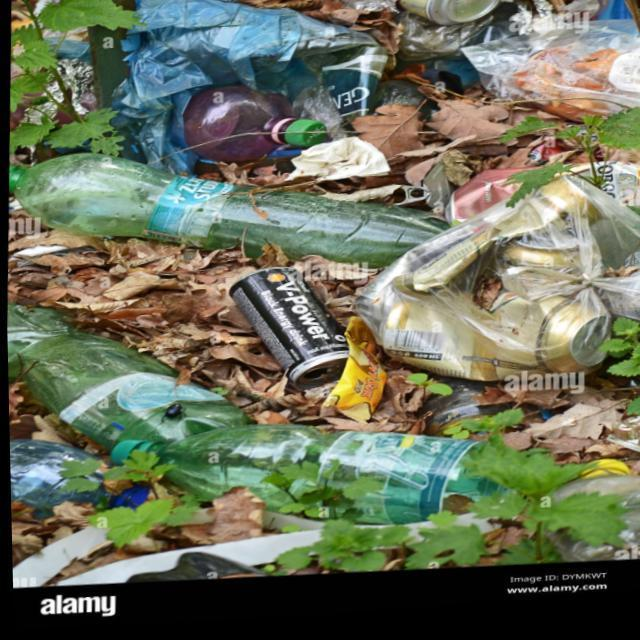Plastic_Bag: (354, 186, 640, 393), (111, 0, 385, 177), (461, 30, 640, 130), (333, 0, 492, 67)
Plastic_bottle: (8, 155, 446, 274), (109, 429, 504, 530), (6, 304, 250, 451), (181, 89, 326, 166), (8, 438, 103, 518)
can: (230, 272, 346, 394), (398, 0, 500, 32)
